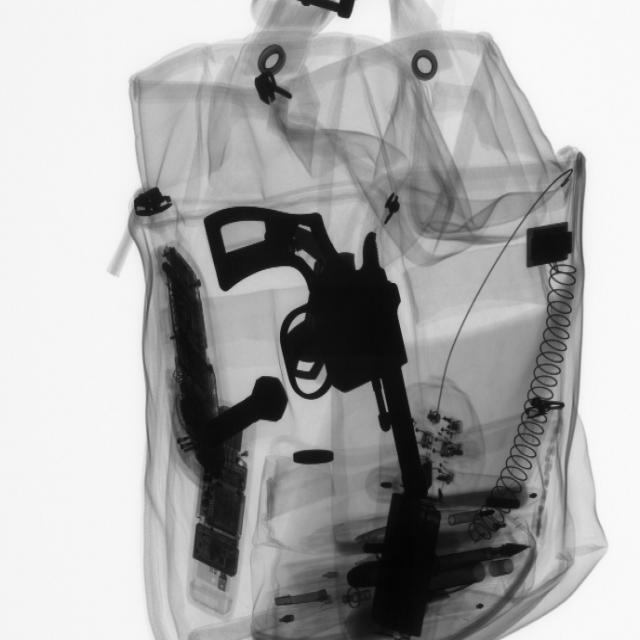GUN: (195, 208, 449, 507)
